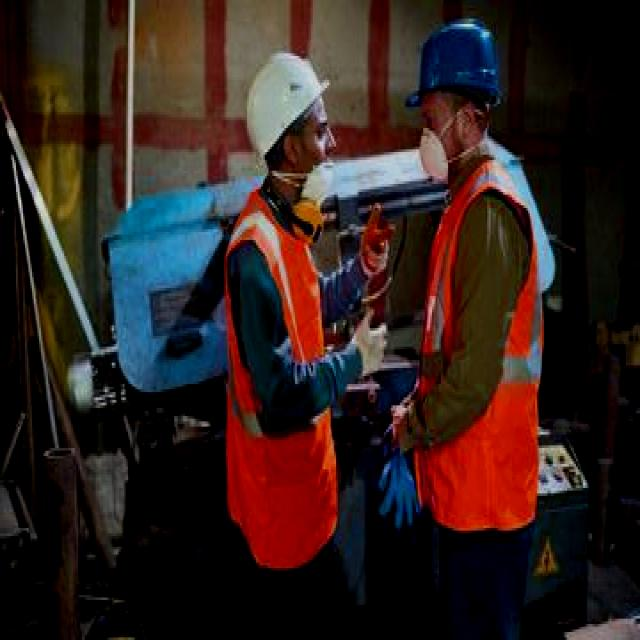face_mask: (284, 101, 340, 211), (414, 88, 466, 184)
hand_glove: (375, 456, 425, 533), (357, 197, 395, 280), (350, 312, 390, 379)
head_helmet: (400, 16, 505, 112), (249, 45, 329, 155)
person: (409, 13, 544, 635), (222, 43, 342, 629)
vest: (416, 173, 539, 510), (226, 216, 330, 557)
